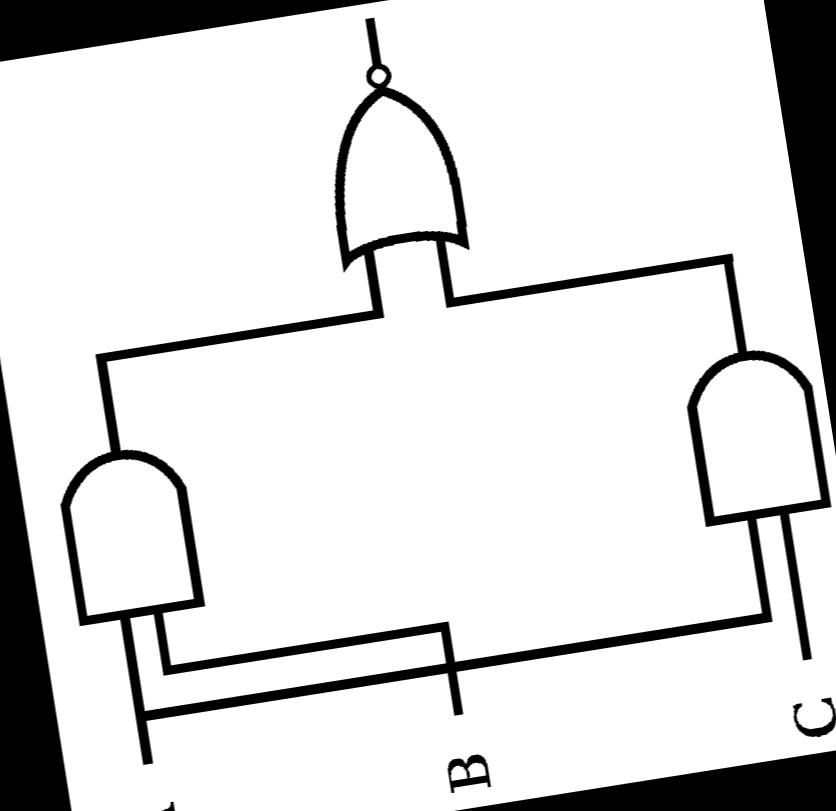and: (38, 412, 225, 645), (660, 318, 836, 540)
nor: (288, 36, 496, 288)
